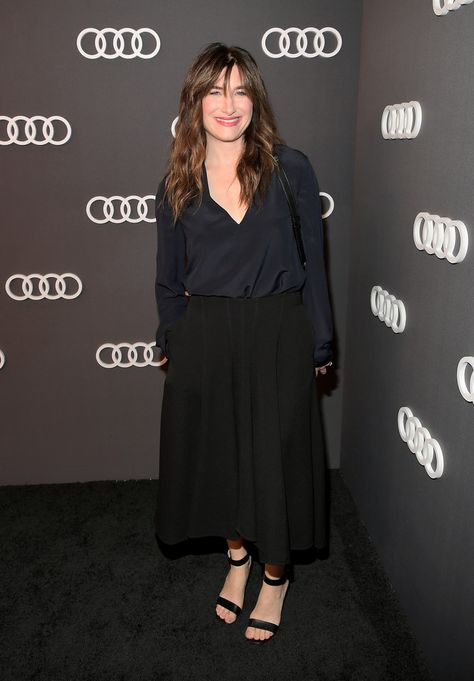person: (150, 36, 344, 642)
